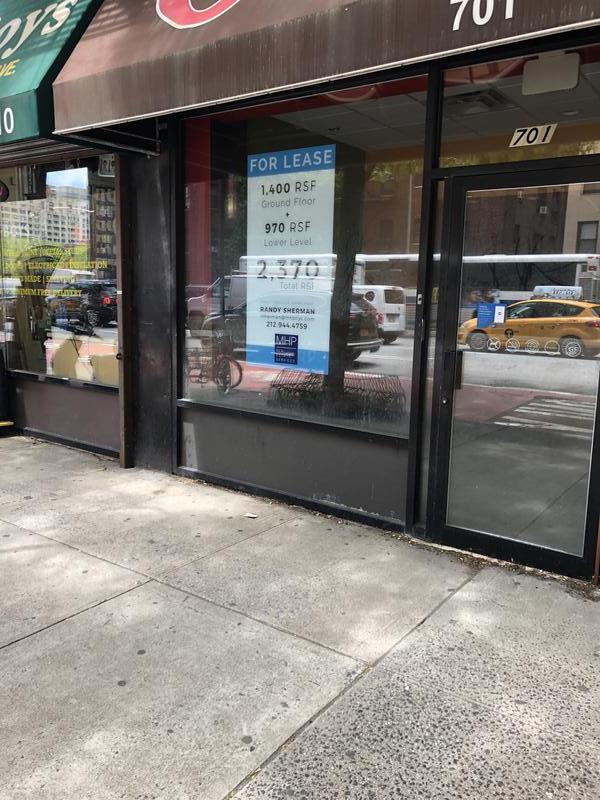door: (441, 176, 600, 587)
